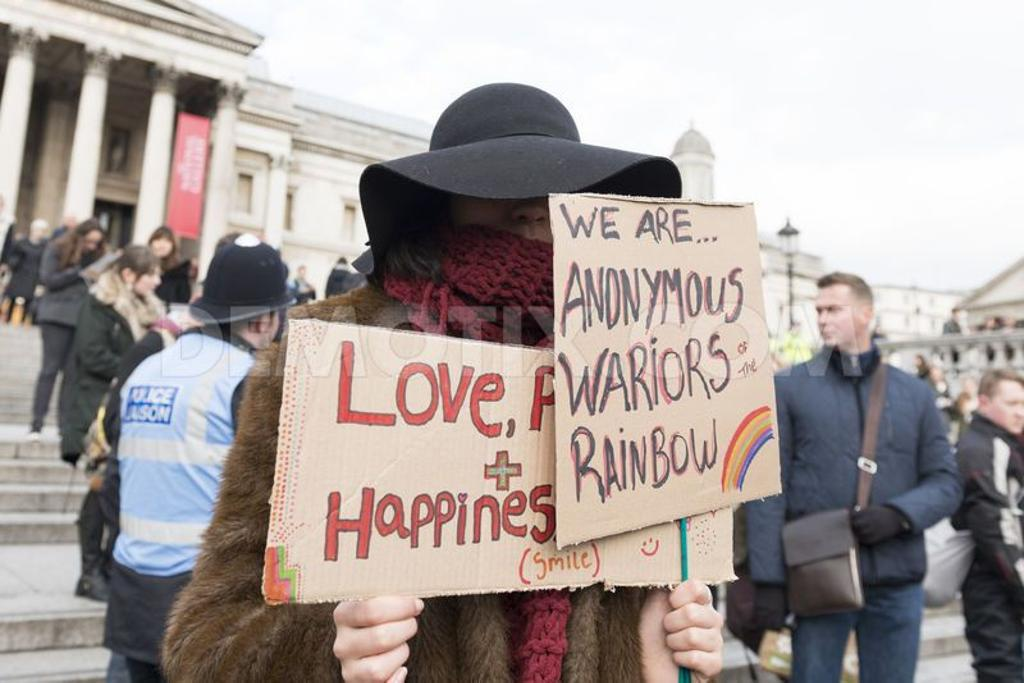face: (453, 169, 585, 290), (818, 293, 858, 348), (992, 385, 1024, 435), (133, 266, 161, 298), (153, 240, 172, 259), (83, 234, 100, 255), (34, 228, 46, 240), (68, 219, 78, 229), (931, 372, 939, 381), (967, 384, 974, 392), (964, 403, 969, 412), (300, 271, 305, 278), (989, 321, 994, 328), (1008, 320, 1013, 325), (956, 313, 960, 319), (917, 360, 921, 365)
